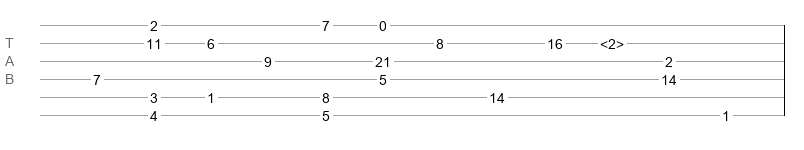0: (379, 18, 387, 28)
1: (207, 90, 215, 100), (722, 108, 730, 118)
11: (146, 36, 162, 46)
14: (489, 90, 505, 100), (661, 72, 677, 82)
16: (547, 36, 563, 46)
2: (150, 18, 158, 28), (665, 54, 673, 64)
21: (375, 54, 391, 64)
3: (150, 90, 158, 100)
4: (150, 108, 158, 118)
5: (322, 108, 330, 118), (379, 72, 387, 82)
6: (207, 36, 215, 46)
7: (93, 72, 101, 82), (322, 18, 330, 28)
8: (322, 90, 330, 100), (436, 36, 444, 46)
9: (264, 54, 272, 64)
harmonic: (600, 36, 624, 46)
